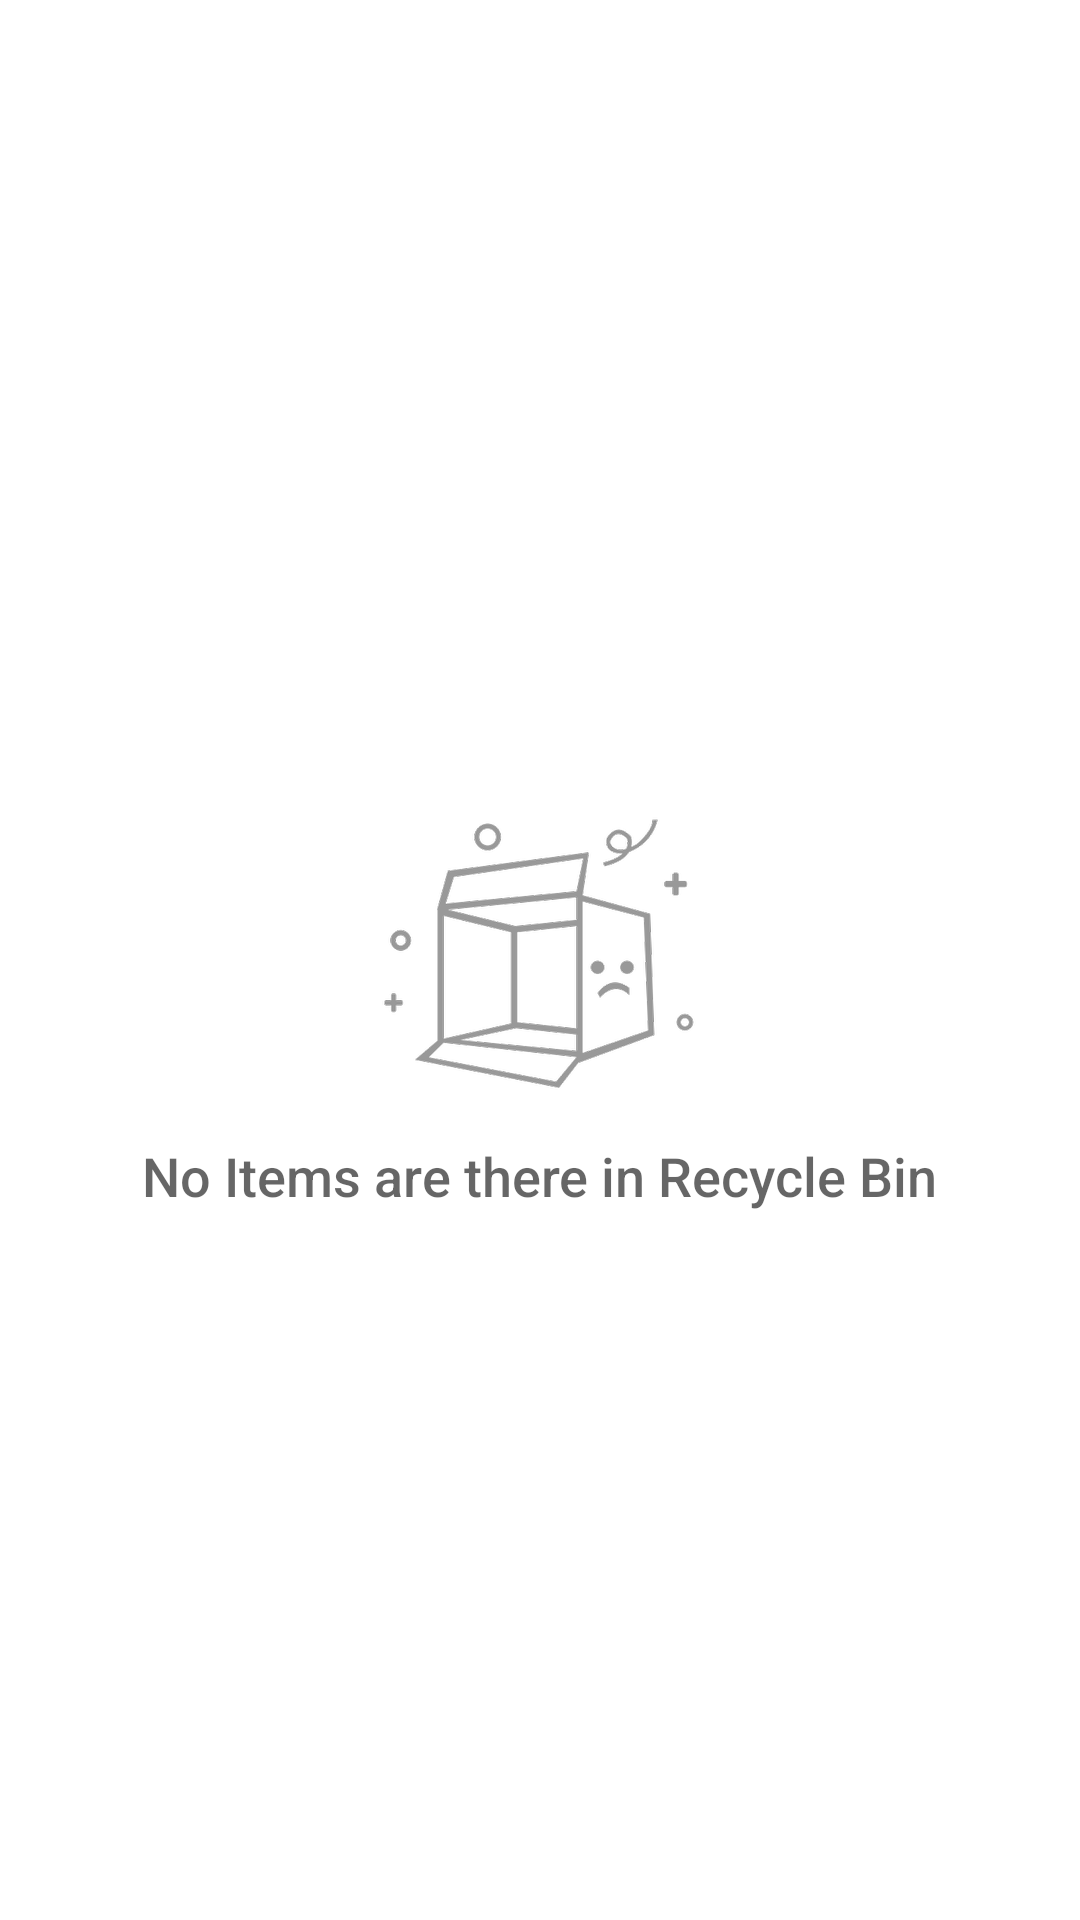

Named icons in this screenshot (1080 × 1920) and their bounding boxes, (x1, y1, x2, y2):
empty mage: (384, 819, 694, 1088)
